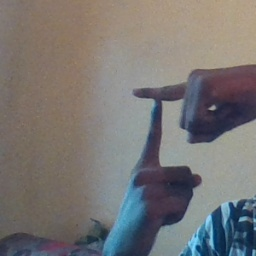T: (116, 68, 208, 182)
